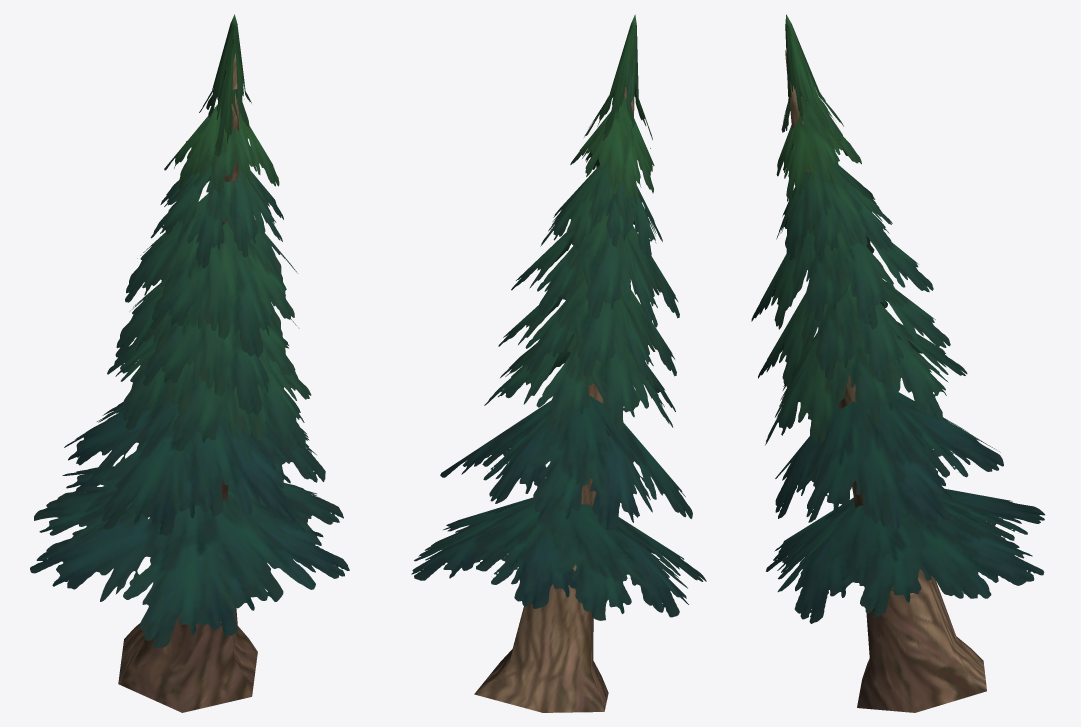
Rendered from Tree_B_2.fbx.
3 renders of one model, left to right at view 1: azimuth 30°, elevation 25°; view 2: azimuth 150°, elevation 25°; view 3: azimuth 270°, elevation 25°, orthographic. The views are drawn at different scales.
Parts seen in each view (by area): view 1: Tree_B_2_Clone_, Tree_B_Trunk; view 2: Tree_B_2_Clone_, Tree_B_Trunk; view 3: Tree_B_2_Clone_, Tree_B_Trunk.
Part boxes in pixels (x1=…): Tree_B_2_Clone_: x1=30, y1=14, x2=349, y2=648; Tree_B_Trunk: x1=118, y1=53, x2=257, y2=712; Tree_B_2_Clone_: x1=411, y1=14, x2=706, y2=620; Tree_B_Trunk: x1=474, y1=87, x2=634, y2=712; Tree_B_2_Clone_: x1=751, y1=14, x2=1044, y2=623; Tree_B_Trunk: x1=785, y1=50, x2=986, y2=712.
Size of the model in its own units: 0.7852 by 1.59 by 0.6956.
2 materials, 2 textured.
